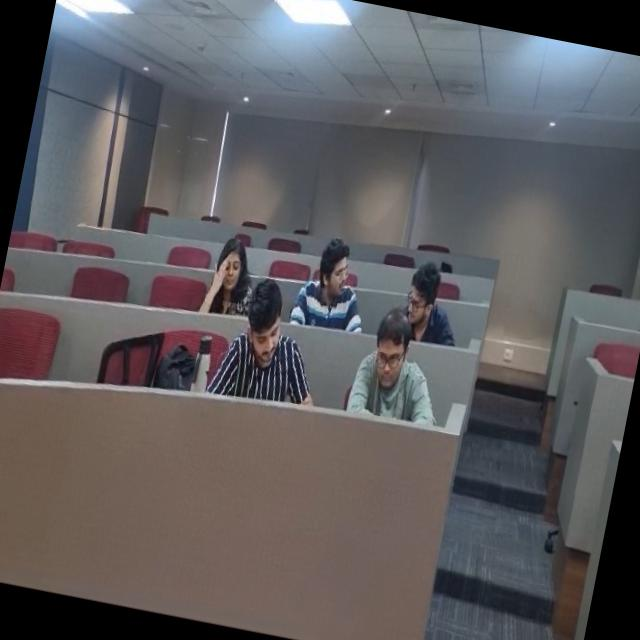cheating: (342, 301, 438, 426), (283, 230, 379, 338), (385, 251, 471, 347)
non-cheating: (208, 267, 318, 417), (192, 218, 276, 326)
